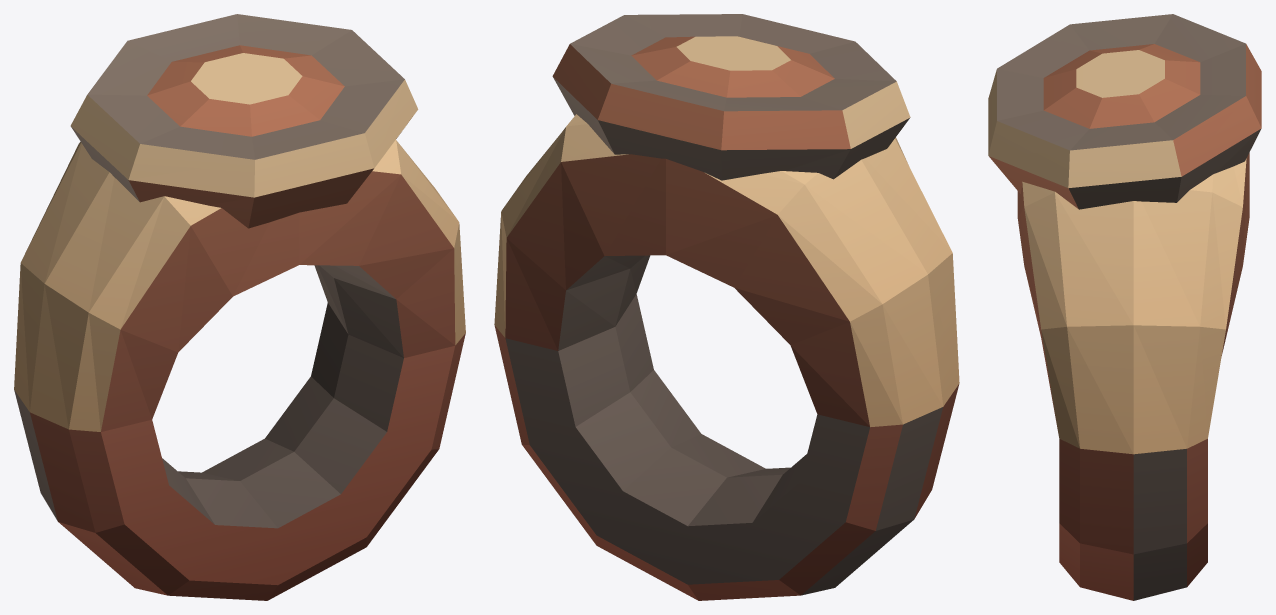
Rendered from source.glb.
3 renders of one model, left to right at view 1: azimuth 30°, elevation 25°; view 2: azimuth 150°, elevation 25°; view 3: azimuth 270°, elevation 25°, orthographic. The views are drawn at different scales.
Visible parts, largest first — view 1: model; view 2: model; view 3: model.
Part boxes in pixels (x1=…): model: x1=14, y1=14, x2=465, y2=600; model: x1=494, y1=14, x2=959, y2=600; model: x1=988, y1=14, x2=1261, y2=600.
Size of the model in its own units: 0.52 by 0.62 by 0.3.
Materials: 1 (1 with a texture image).
